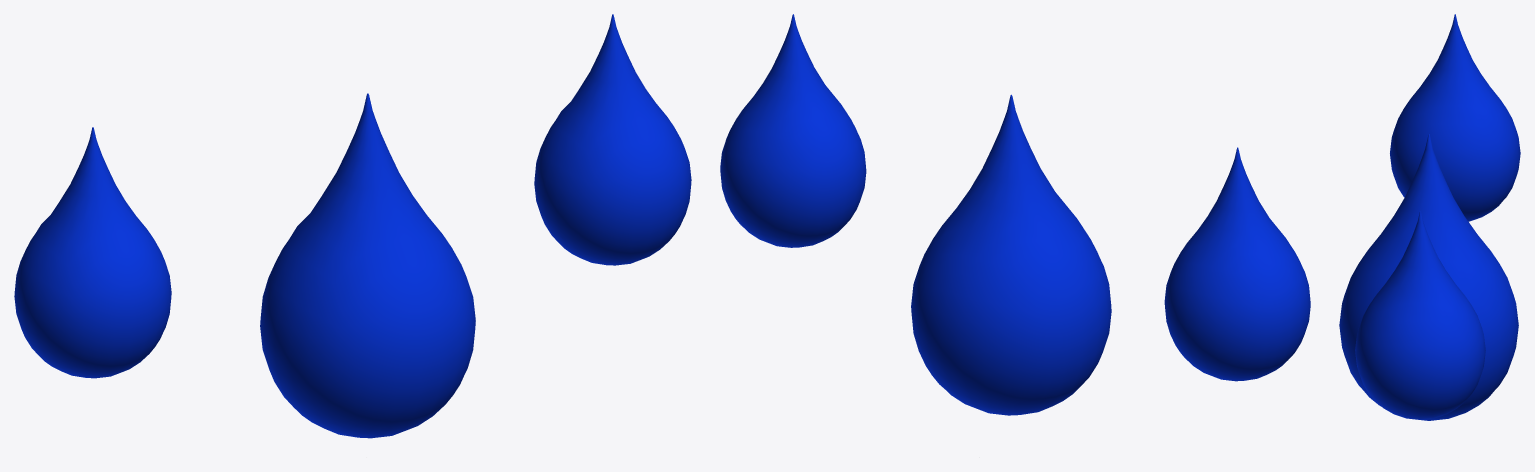
File: drops.glb
3 views of the same model, side by side, from view 1: azimuth 30°, elevation 25°; view 2: azimuth 150°, elevation 25°; view 3: azimuth 270°, elevation 25° (orthographic). The views are drawn at different scales.
Visible parts, largest first — view 1: node_4af83a3c_f04b_4482_8156_26228febbfd9_mesh0, node_4af83a3c_f04b_4482_8156_26228febbfd9_mesh0.002, node_4af83a3c_f04b_4482_8156_26228febbfd9_mesh0.001; view 2: node_4af83a3c_f04b_4482_8156_26228febbfd9_mesh0, node_4af83a3c_f04b_4482_8156_26228febbfd9_mesh0.001, node_4af83a3c_f04b_4482_8156_26228febbfd9_mesh0.002; view 3: node_4af83a3c_f04b_4482_8156_26228febbfd9_mesh0.002, node_4af83a3c_f04b_4482_8156_26228febbfd9_mesh0, node_4af83a3c_f04b_4482_8156_26228febbfd9_mesh0.001.
Part boxes in pixels (bbox=[...]): node_4af83a3c_f04b_4482_8156_26228febbfd9_mesh0: bbox=[260, 93, 475, 438]; node_4af83a3c_f04b_4482_8156_26228febbfd9_mesh0.002: bbox=[534, 14, 691, 265]; node_4af83a3c_f04b_4482_8156_26228febbfd9_mesh0.001: bbox=[14, 127, 171, 378]; node_4af83a3c_f04b_4482_8156_26228febbfd9_mesh0: bbox=[911, 94, 1111, 415]; node_4af83a3c_f04b_4482_8156_26228febbfd9_mesh0.001: bbox=[1164, 147, 1310, 381]; node_4af83a3c_f04b_4482_8156_26228febbfd9_mesh0.002: bbox=[720, 14, 866, 247]; node_4af83a3c_f04b_4482_8156_26228febbfd9_mesh0.002: bbox=[1355, 211, 1485, 419]; node_4af83a3c_f04b_4482_8156_26228febbfd9_mesh0: bbox=[1339, 134, 1518, 420]; node_4af83a3c_f04b_4482_8156_26228febbfd9_mesh0.001: bbox=[1390, 14, 1520, 221].
Bounding box in the file's own units: 120 × 73.3 × 35.7.
